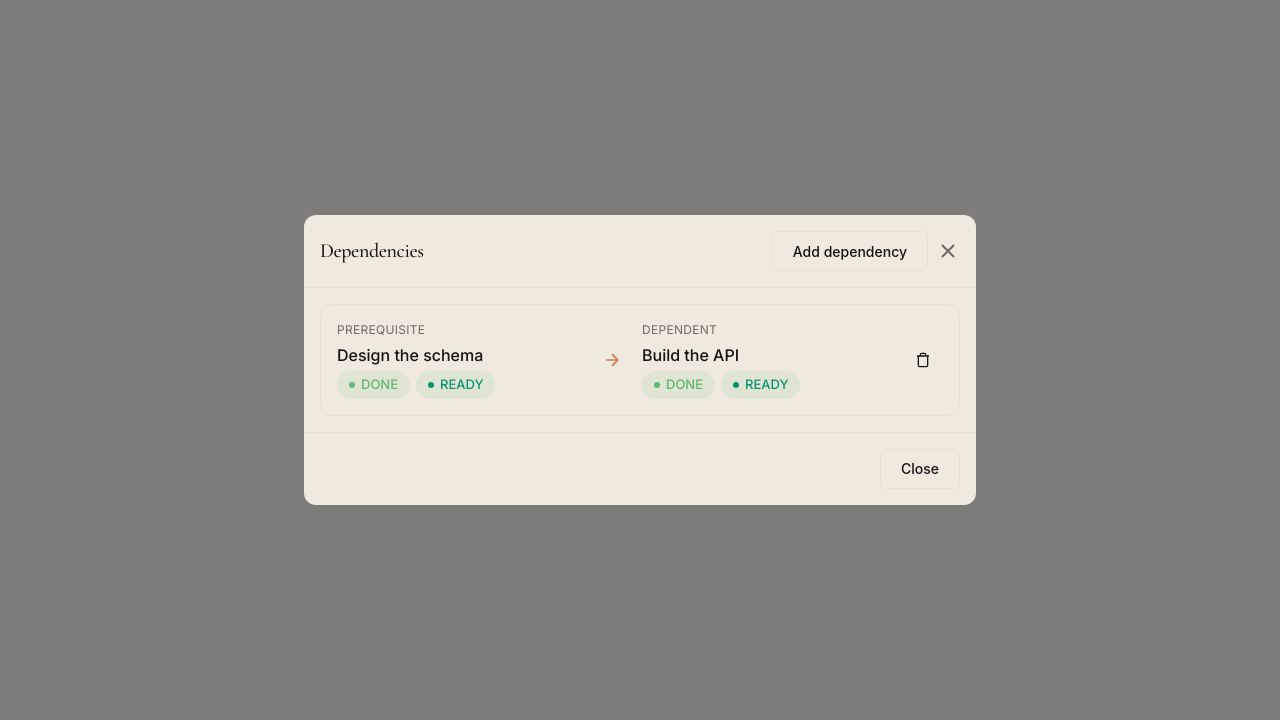
DependencyList removal confirmation › a done dependent is told its history is kept, not that it can start
The width and height of the screenshot is (1280, 720).
Step 1. Click the 3rd button → (923, 360), box [903,346,943,374]
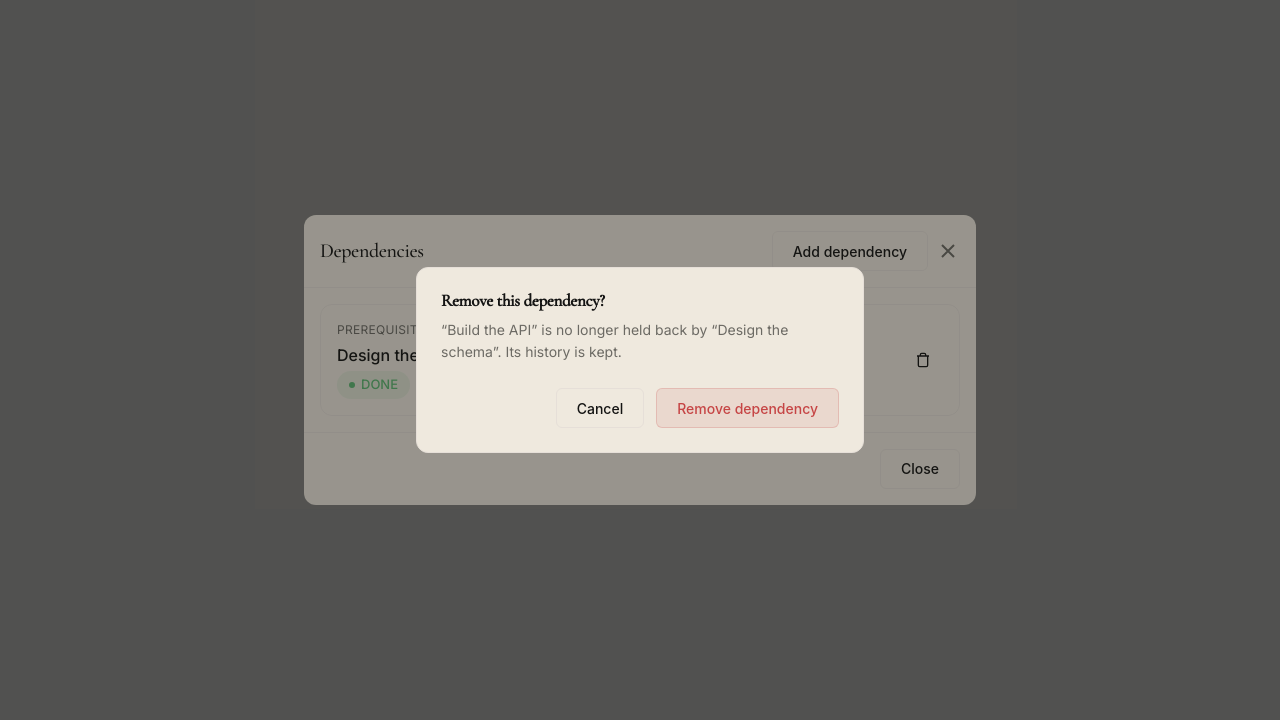
Expected: the text "Its history is kept" is shown, [441,321,788,360]
